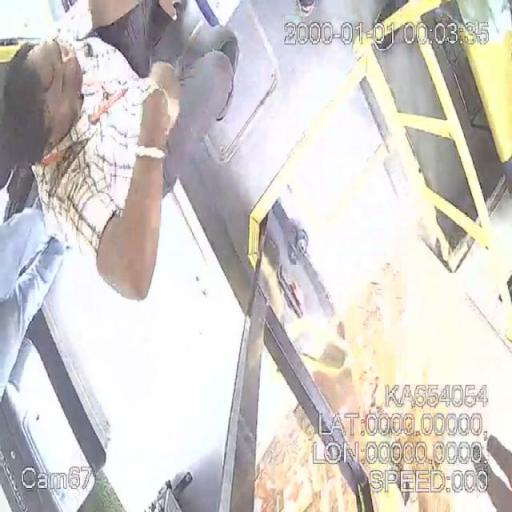persona: (0, 8, 242, 314)
